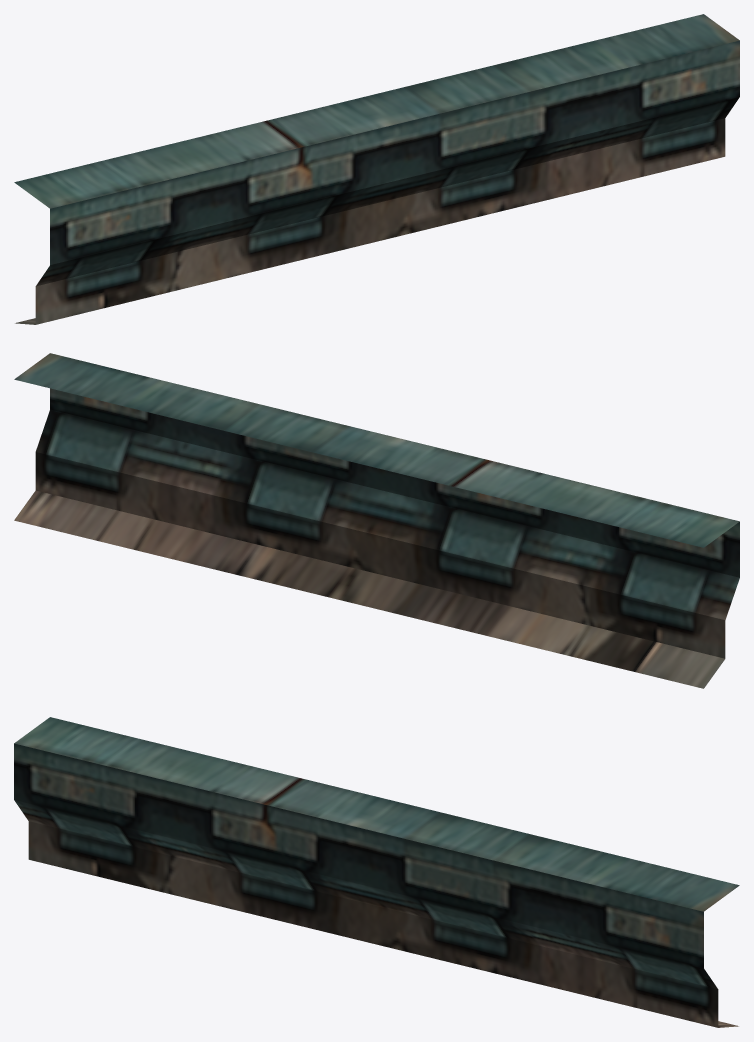
Rendered from overlap_concrete_1.fbx.
3 renders of one model, top to bottom at view 1: azimuth 30°, elevation 25°; view 2: azimuth 150°, elevation 25°; view 3: azimuth 330°, elevation 25°, orthographic.
Visible parts, largest first — view 1: overlap_concrete_1; view 2: overlap_concrete_1; view 3: overlap_concrete_1.
Boxes of the visible parts, bbox=[...] form: overlap_concrete_1: bbox=[14, 14, 739, 324]; overlap_concrete_1: bbox=[14, 353, 739, 688]; overlap_concrete_1: bbox=[14, 717, 739, 1027].
Size of the model in its own units: 3 by 0.586 by 0.2724.
